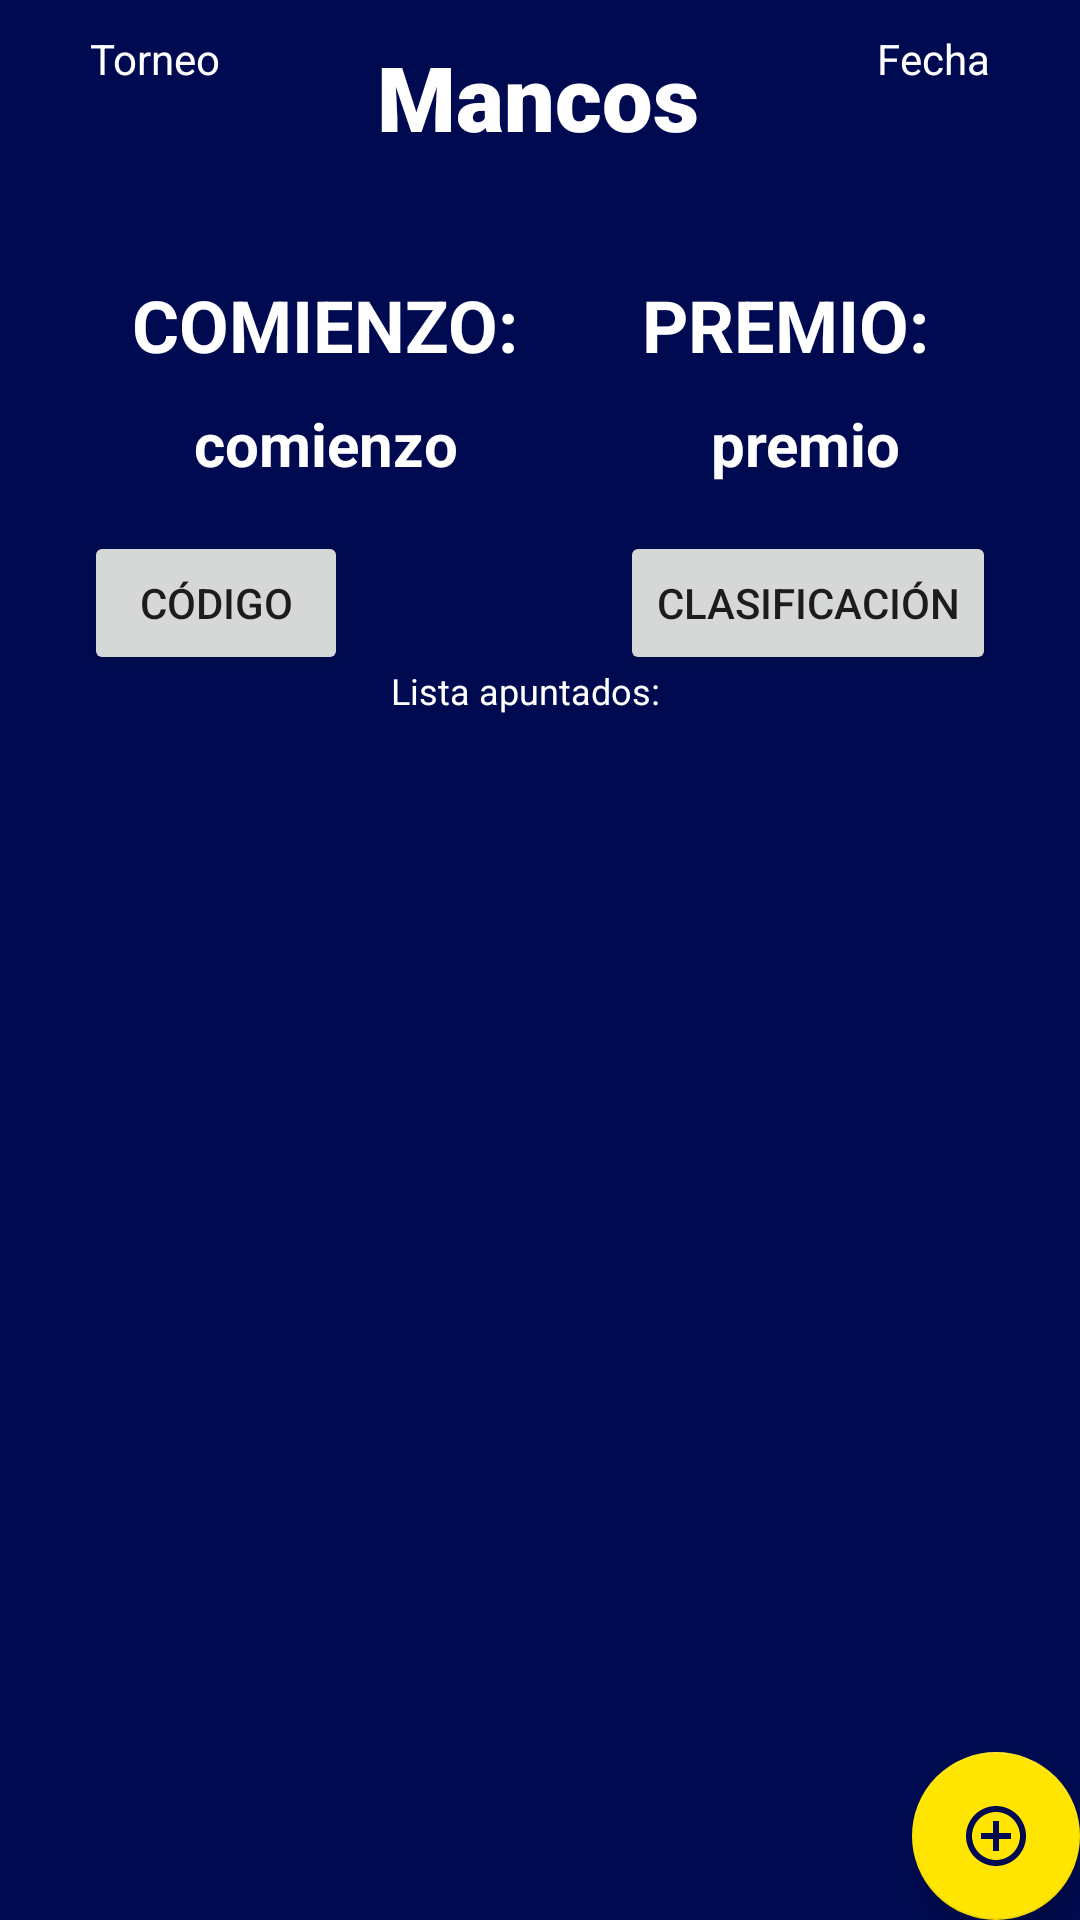

Where icons sit on this 1080 x 1920 app screen, as (x1, y1, x2, y2):
add circle: (912, 1752, 1080, 1920)
